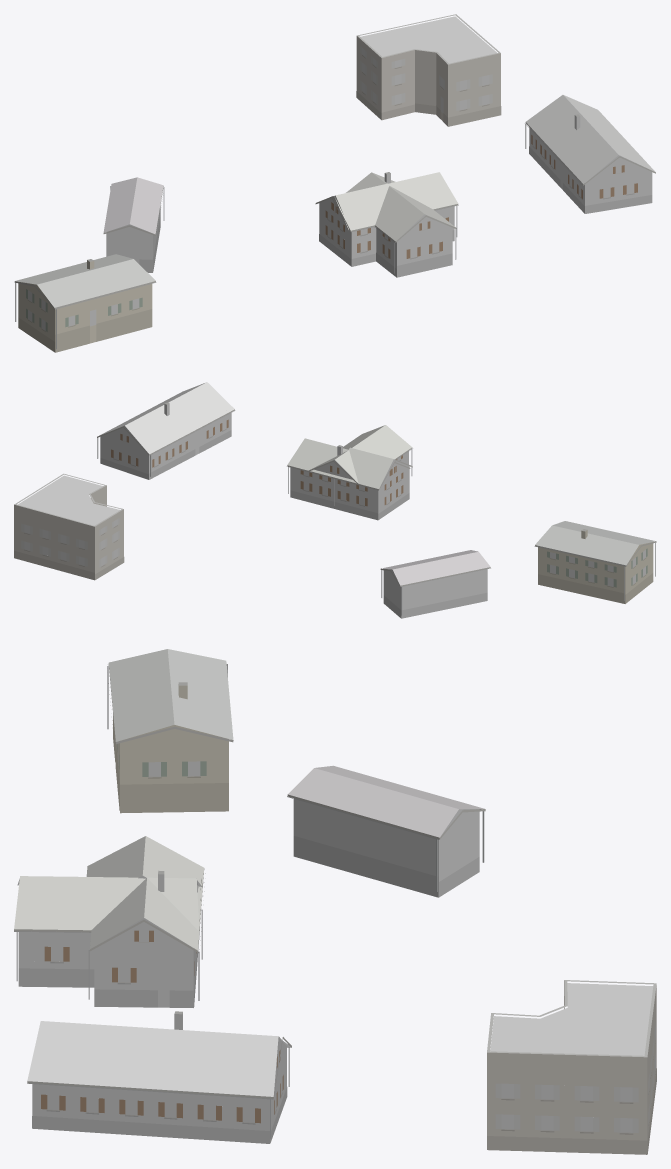
3 views of the same model, one above another, from view 1: azimuth 30°, elevation 25°; view 2: azimuth 150°, elevation 25°; view 3: azimuth 270°, elevation 25° (orthographic). The views are drawn at different scales.
Visible parts, largest first — view 1: bld; view 2: bld; view 3: bld.
Boxes of the visible parts, x1=… form: bld: x1=14, y1=14, x2=655, y2=352; bld: x1=14, y1=382, x2=656, y2=618; bld: x1=14, y1=649, x2=656, y2=1154.
Bounding box in the file's own units: 87.89 × 12.56 × 52.
